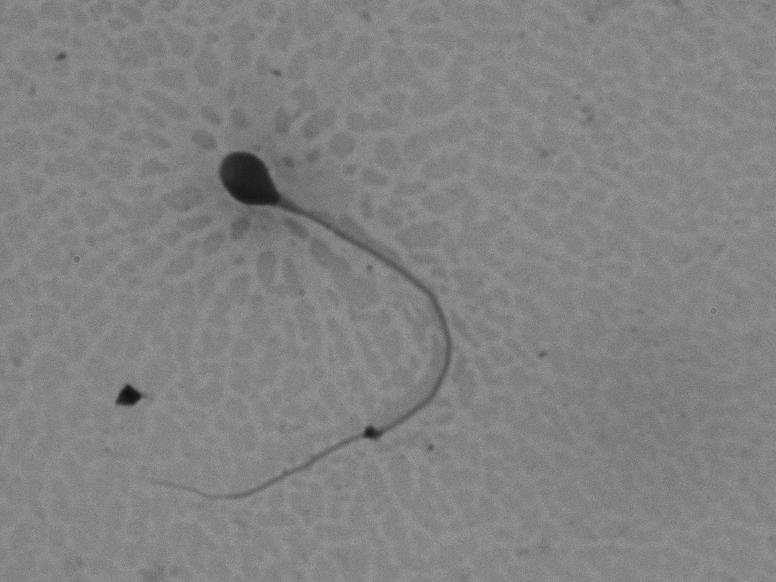Abnormal: (59, 125, 479, 525)
